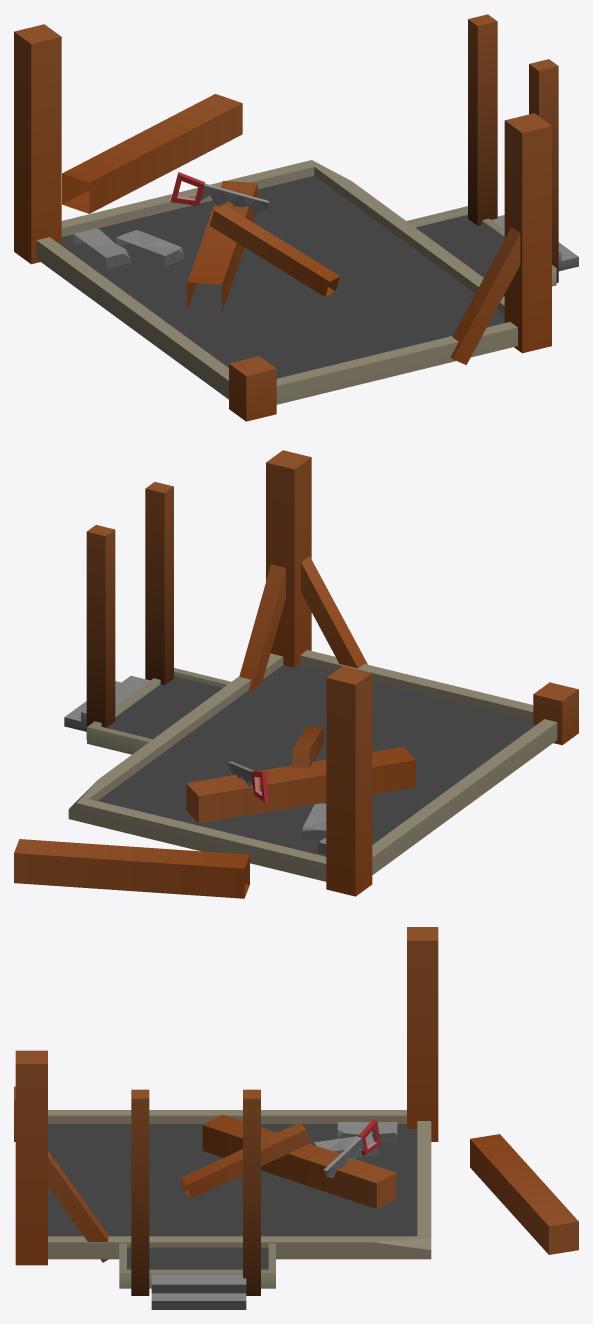
Rendered from armorer_d_01.fbx.
3 renders of one model, top to bottom at view 1: azimuth 30°, elevation 25°; view 2: azimuth 150°, elevation 25°; view 3: azimuth 270°, elevation 25°, orthographic. The views are drawn at different scales.
Visible parts, largest first — view 1: Box059.034; view 2: Box059.034; view 3: Box059.034.
Part boxes in pixels (bbox=[...]): Box059.034: bbox=[14, 14, 578, 421]; Box059.034: bbox=[14, 450, 578, 898]; Box059.034: bbox=[14, 927, 578, 1309].
Size of the model in its own units: 6.2 by 3.19 by 8.13.
